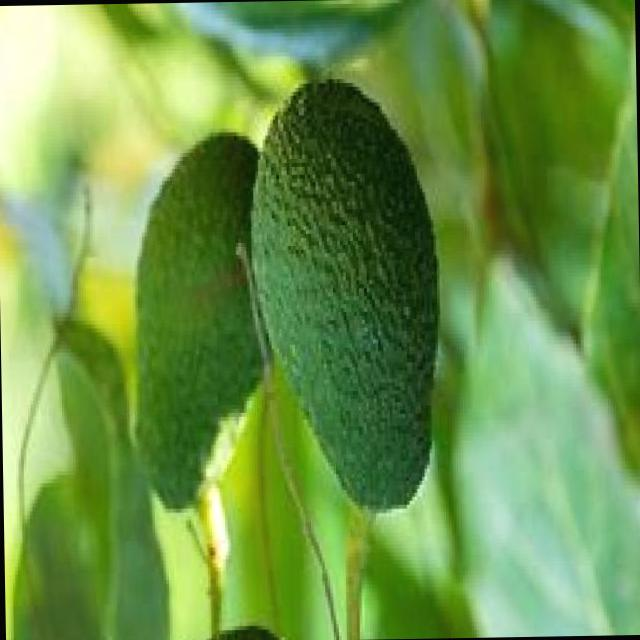avocado: (255, 81, 452, 514), (123, 135, 280, 518)
